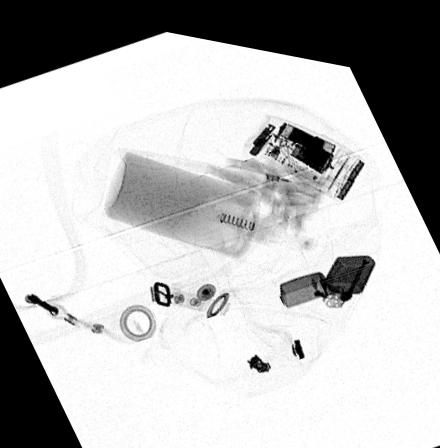Lighter: (278, 240, 376, 296)
